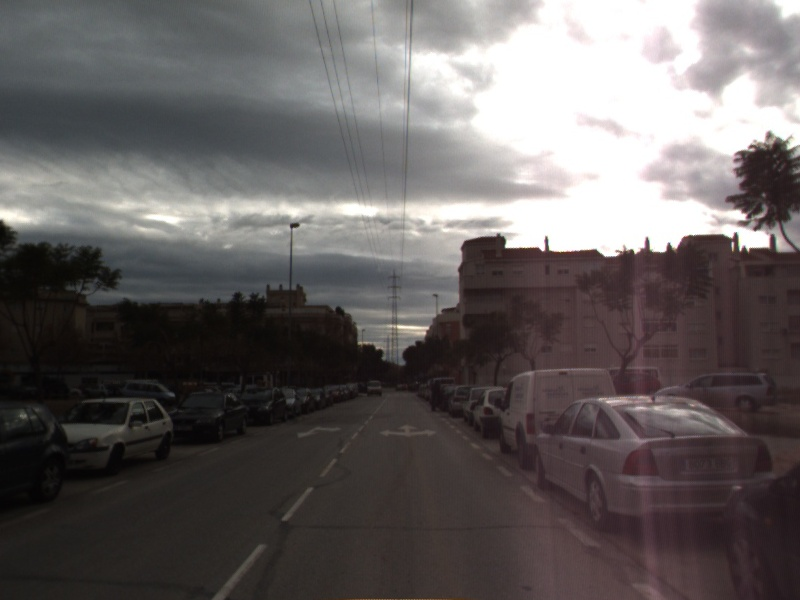STRAIGHT_LEFT_RIGHT: (376, 421, 440, 440)
